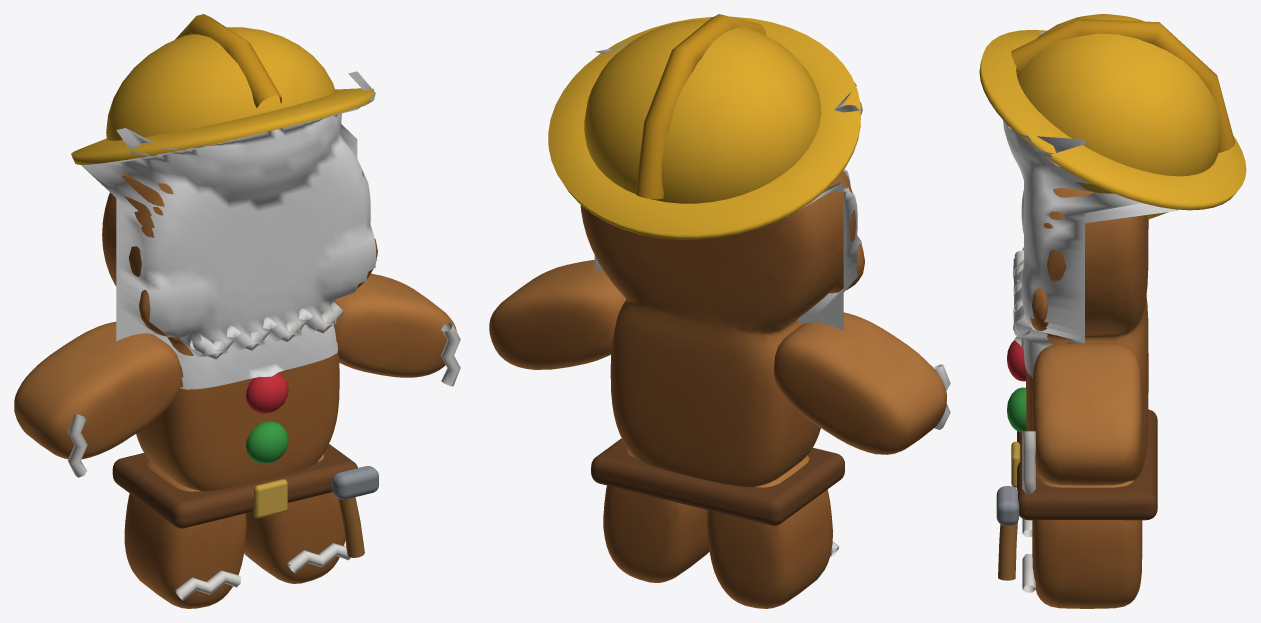
The model's file is folk2_ginger_lod1.glb.
The picture shows the model from 3 angles, left to right: view 1: azimuth 30°, elevation 25°; view 2: azimuth 150°, elevation 25°; view 3: azimuth 270°, elevation 25°; orthographic projection. The views are drawn at different scales.
Visible parts, largest first — view 1: ginger_body, ginger_face, ginger_arm_l, ginger_arm_r, ginger_leg_l, ginger_leg_r; view 2: ginger_body, ginger_arm_l, ginger_arm_r, ginger_leg_l, ginger_leg_r, ginger_face; view 3: ginger_body, ginger_arm_r, ginger_face, ginger_leg_r.
Part boxes in pixels (left/top/right/bottom): ginger_body: left=71, top=14, right=378, bottom=557; ginger_face: left=81, top=71, right=376, bottom=389; ginger_arm_l: left=14, top=321, right=181, bottom=477; ginger_arm_r: left=333, top=273, right=460, bottom=386; ginger_leg_l: left=124, top=460, right=246, bottom=608; ginger_leg_r: left=244, top=454, right=350, bottom=583; ginger_body: left=548, top=14, right=864, bottom=525; ginger_arm_l: left=774, top=312, right=950, bottom=454; ginger_arm_r: left=489, top=260, right=625, bottom=369; ginger_leg_l: left=707, top=455, right=839, bottom=608; ginger_leg_r: left=603, top=449, right=709, bottom=582; ginger_face: left=594, top=38, right=862, bottom=330; ginger_body: left=979, top=14, right=1246, bottom=580; ginger_arm_r: left=1022, top=343, right=1142, bottom=493; ginger_face: left=1003, top=31, right=1178, bottom=377; ginger_leg_r: left=1022, top=480, right=1142, bottom=608.
Bounding box in the file's own units: 1.06 × 1.35 × 0.5848.
